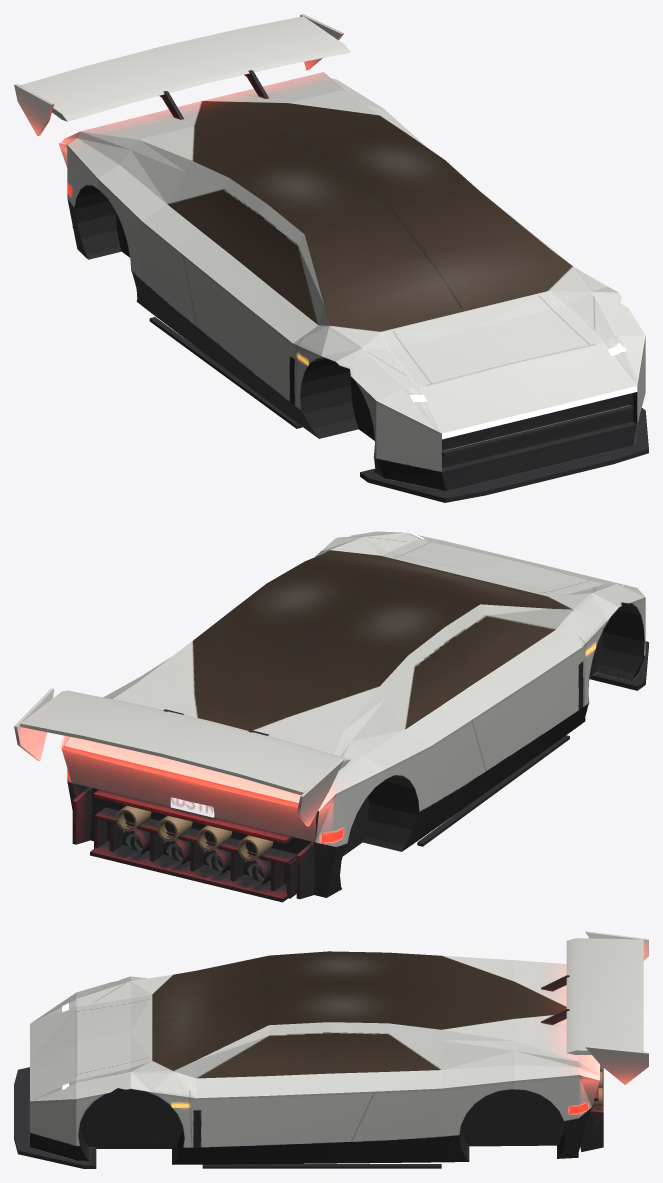
The model's file is rdstr-body.glb.
The picture shows the model from 3 angles, top to bottom: view 1: azimuth 30°, elevation 25°; view 2: azimuth 150°, elevation 25°; view 3: azimuth 270°, elevation 25°; orthographic projection. The views are drawn at different scales.
Visible parts, largest first — view 1: rdstr_tmp; view 2: rdstr_tmp; view 3: rdstr_tmp.
Part boxes in pixels (bbox=[...]): rdstr_tmp: bbox=[14, 14, 648, 502]; rdstr_tmp: bbox=[14, 531, 648, 902]; rdstr_tmp: bbox=[14, 931, 648, 1168].
Size of the model in its own units: 2.07 by 1.09 by 4.78.
1 material, 1 textured.
